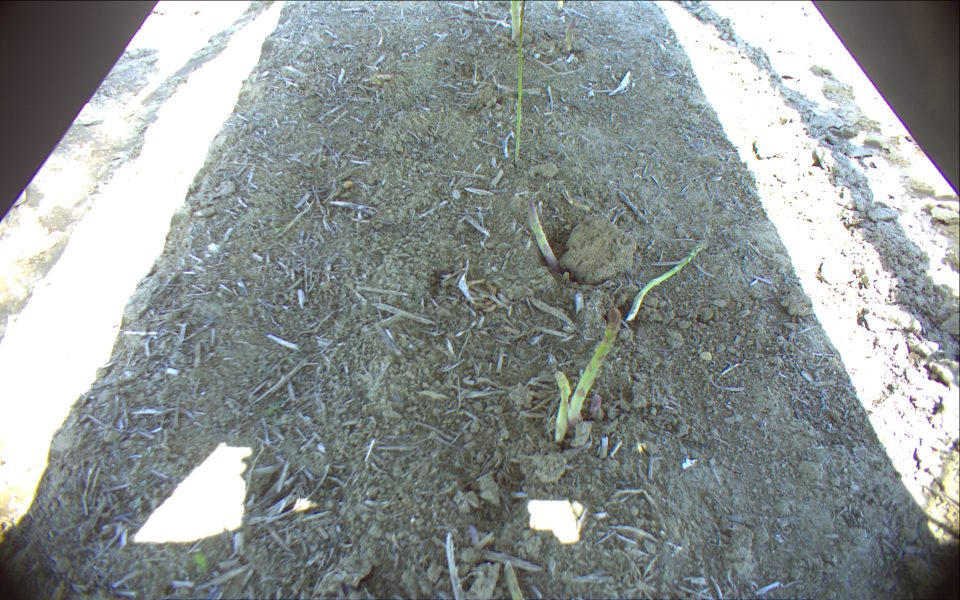aspa: (626, 237, 713, 324), (570, 306, 621, 426), (515, 1, 531, 163), (526, 200, 560, 271), (552, 371, 570, 443), (502, 557, 525, 600), (507, 1, 521, 41), (563, 19, 578, 55), (556, 1, 565, 12)
